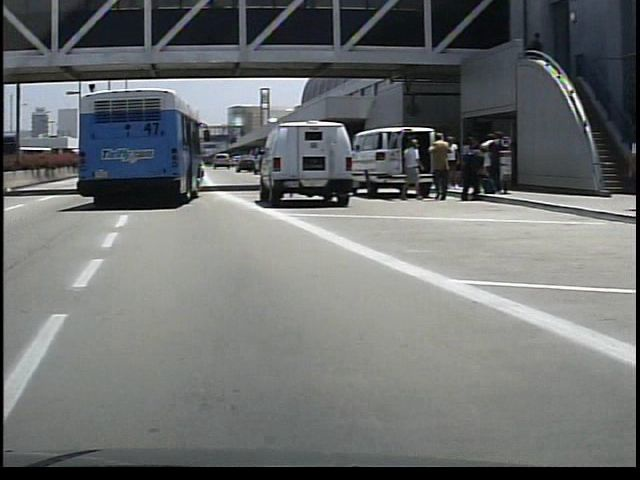person: (422, 130, 448, 203), (396, 133, 420, 200)
